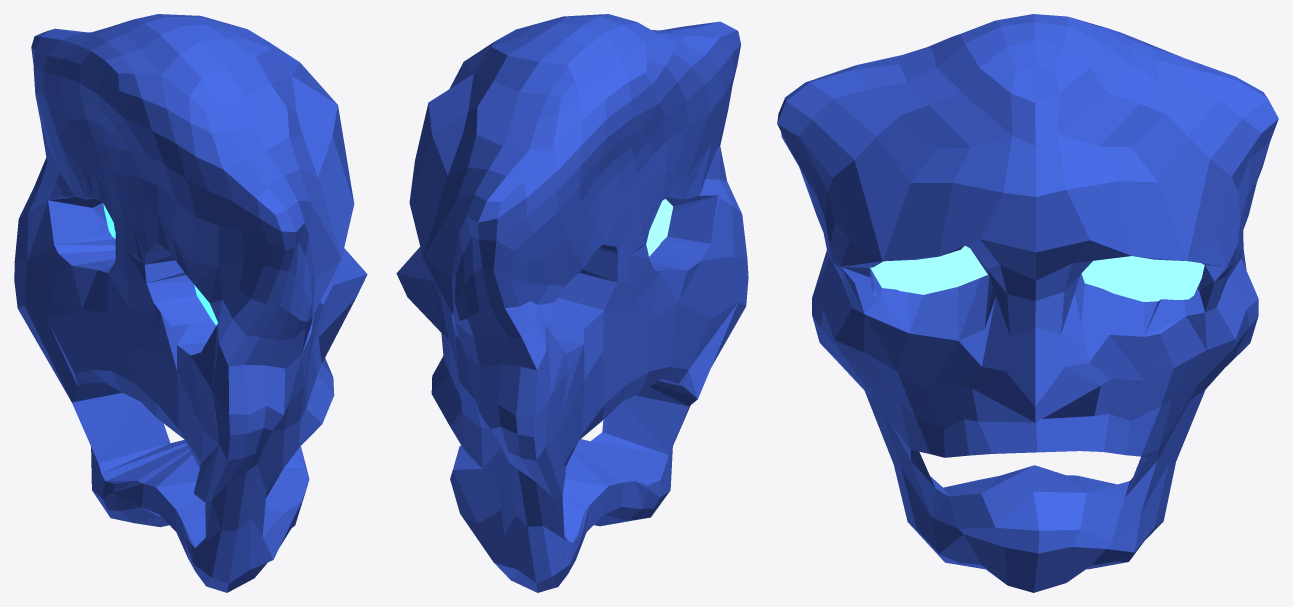
File: sorrow.fbx
3 views of the same model, side by side, from view 1: azimuth 30°, elevation 25°; view 2: azimuth 150°, elevation 25°; view 3: azimuth 270°, elevation 25° (orthographic).
Visible parts, largest first — view 1: Sphere.001; view 2: Sphere.001, Sphere.005; view 3: Sphere.001, Sphere.005.
Boxes of the visible parts, x1=… form: Sphere.001: x1=14, y1=14, x2=367, y2=592; Sphere.001: x1=396, y1=14, x2=748, y2=592; Sphere.005: x1=646, y1=199, x2=673, y2=256; Sphere.001: x1=777, y1=14, x2=1278, y2=592; Sphere.005: x1=870, y1=246, x2=1204, y2=301.
Size of the model in its own units: 94.51 by 189 by 162.
